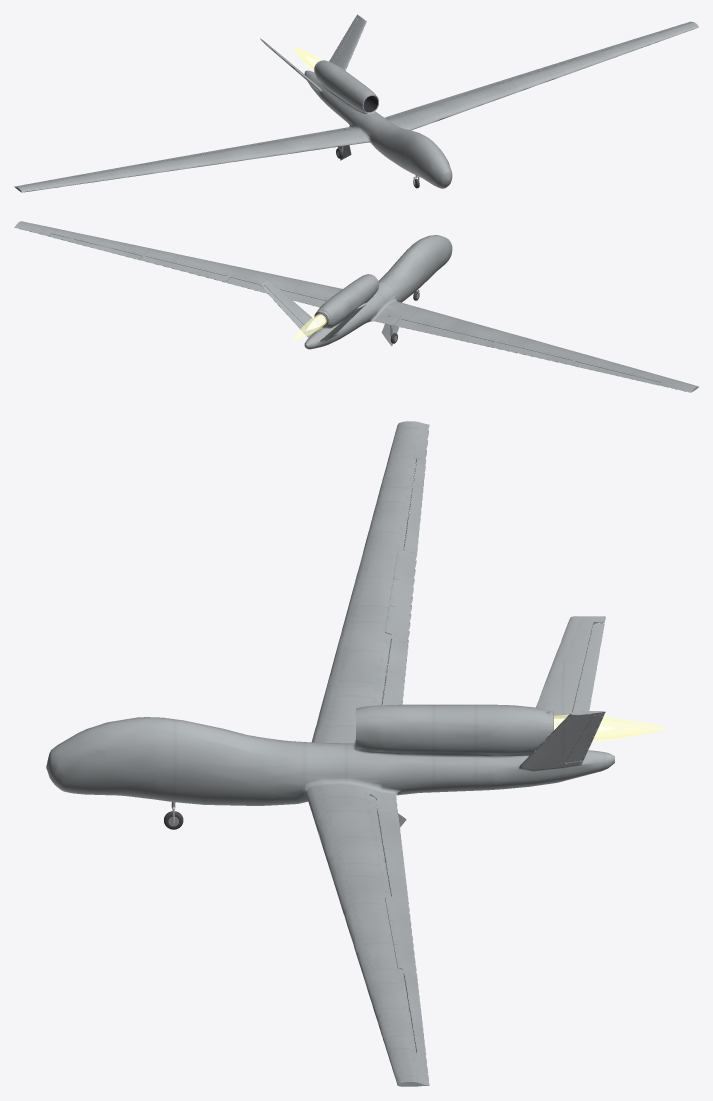
3 renders of one model, top to bottom at view 1: azimuth 30°, elevation 25°; view 2: azimuth 150°, elevation 25°; view 3: azimuth 270°, elevation 25°, orthographic. The views are drawn at different scales.
Visible parts, largest first — view 1: fsim:section:right-wing, fsim:section:left-wing, fsim:section:centre, fsim:section:nose, fsim:section:tail; view 2: fsim:section:right-wing, fsim:section:left-wing, fsim:section:centre, fsim:section:nose, fsim:section:tail, fsim:flaps (×2), fsim:aileron (×2), fsim:afterburner:0, fsim:elevator+rudder:1@-25,25; view 3: fsim:section:centre, fsim:section:nose, fsim:section:left-wing, fsim:section:right-wing, fsim:section:tail, fsim:flaps (×2), fsim:elevator+rudder:-1@-25,25, fsim:afterburner:0, fsim:aileron.
Boxes of the visible parts, x1,y1,x2,y2 form: fsim:section:right-wing: (14, 127, 371, 192); fsim:section:left-wing: (384, 21, 698, 130); fsim:section:centre: (322, 66, 396, 153); fsim:section:nose: (376, 125, 452, 188); fsim:section:tail: (260, 14, 366, 103); fsim:section:right-wing: (374, 298, 698, 392); fsim:section:left-wing: (14, 221, 342, 300); fsim:section:centre: (327, 274, 404, 337); fsim:section:nose: (382, 235, 452, 302); fsim:section:tail: (260, 279, 366, 349); fsim:flaps (×2): (226, 277, 493, 346); fsim:aileron (×2): (49, 234, 660, 385); fsim:afterburner:0: (293, 313, 326, 340); fsim:elevator+rudder:1@-25,25: (262, 286, 308, 333); fsim:section:centre: (270, 704, 520, 804); fsim:section:nose: (46, 717, 282, 805); fsim:section:left-wing: (303, 781, 429, 1086); fsim:section:right-wing: (312, 421, 429, 743); fsim:section:tail: (493, 616, 614, 788); fsim:flaps (×2): (377, 639, 408, 900); fsim:elevator+rudder:-1@-25,25: (572, 623, 604, 712); fsim:afterburner:0: (554, 714, 666, 740); fsim:aileron: (404, 458, 426, 553).
Size of the model in its own units: 39.9 by 4.84 by 15.83.
Materials: 11 (1 with a texture image).
